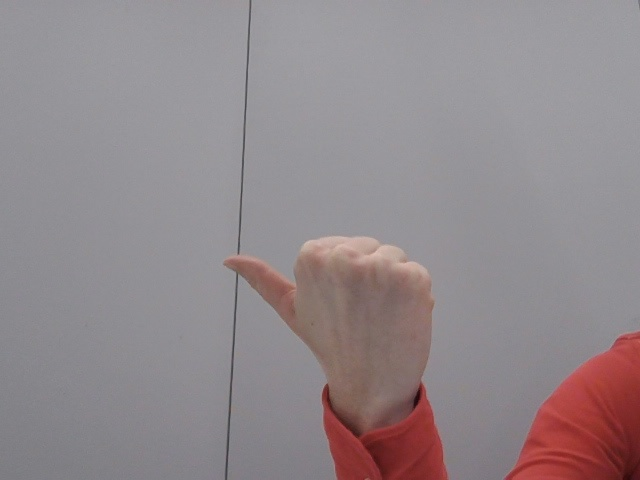right: (214, 208, 454, 458)
